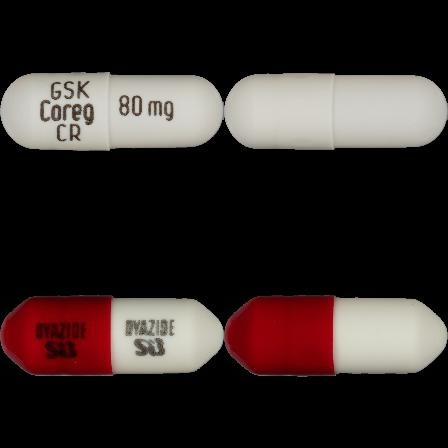0007-3373: (0, 0, 224, 224)
